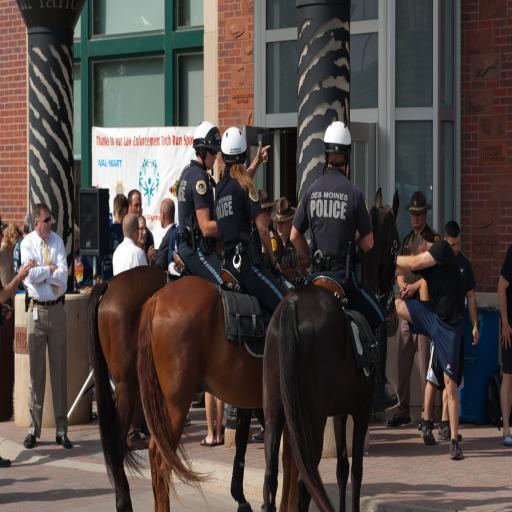horse: (263, 184, 401, 512), (86, 264, 263, 512), (136, 264, 310, 512)
